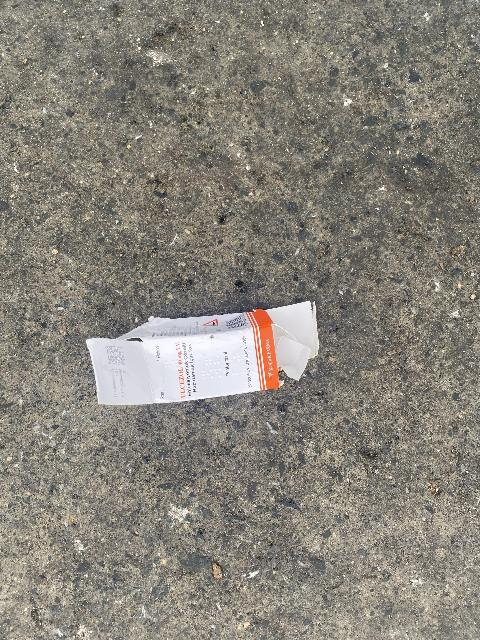Kagit: (75, 301, 330, 406)
